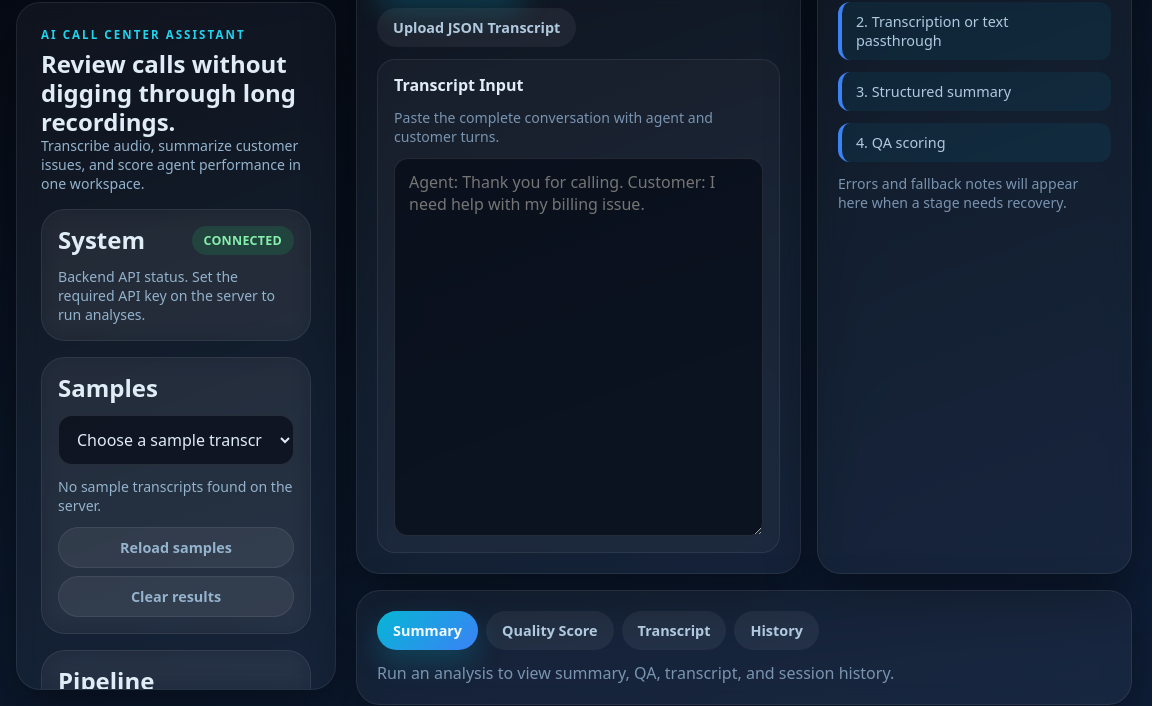
Test case: App › analyzes transcript input and renders summary content
This screenshot has width=1152, height=706.
(page scrolled)
Type "Agent: Hello. Customer: I need help with a refund." into the text box with placeholder "Agent: Thank you for calling. Customer: I need help with my billing issue." at (578, 346), box [394,158,763,536]
(page scrolled)
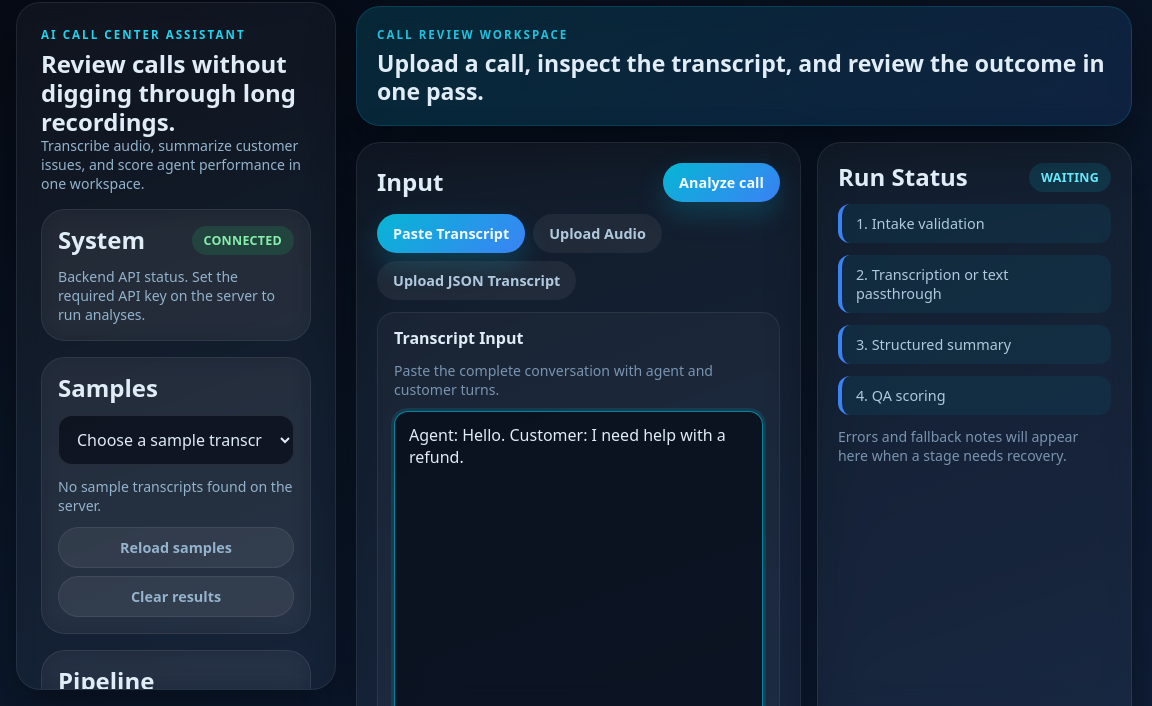
Click the button "Analyze call" at (722, 183), box [663,163,780,202]
(page scrolled)
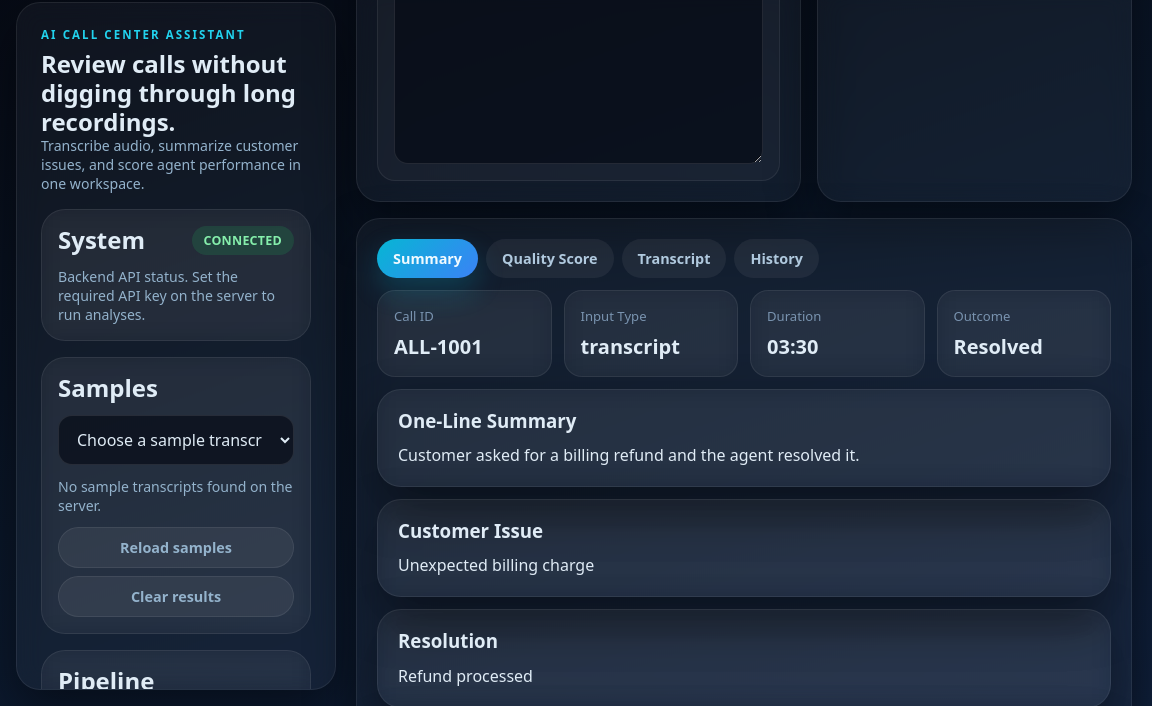
Expected: the text "Customer asked for a billing refund and the agent resolved it." is shown, [398,444,860,466]
Expected: the text "Refund processed" is shown, [398,665,533,687]
Expected: the text "Resolved" is shown, [954,332,1043,360]
